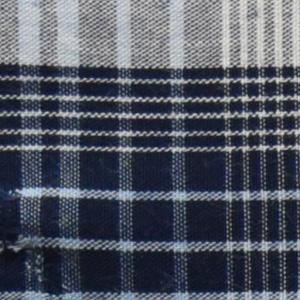Damage: (1, 215, 82, 300)
